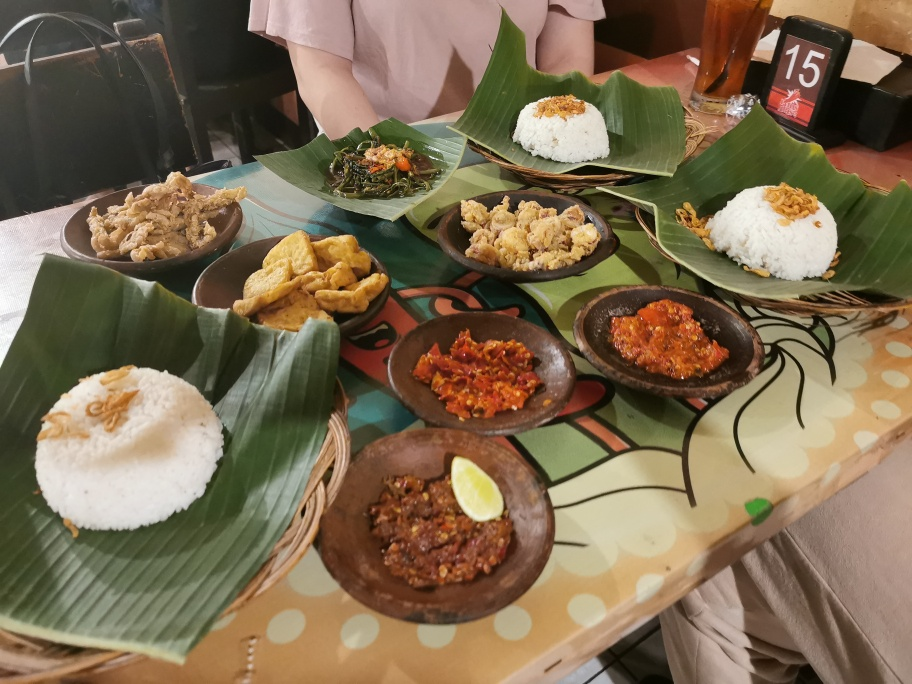nasi putih: (35, 362, 223, 529), (703, 178, 845, 282), (512, 92, 615, 164)
